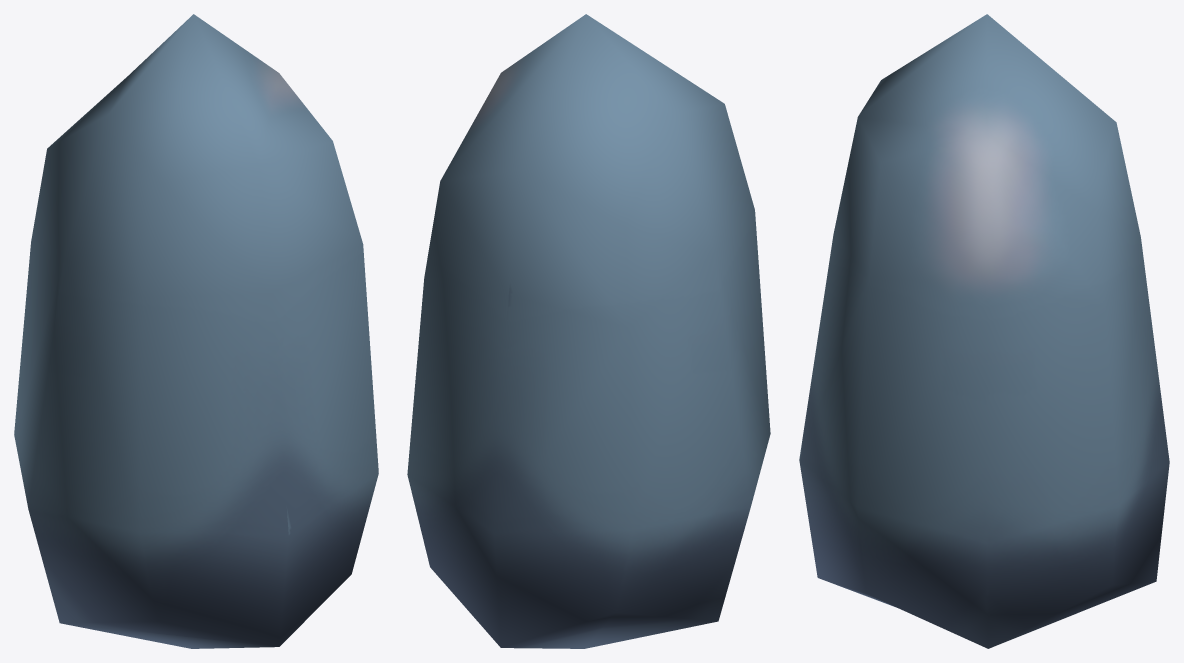
File: Dustmorph.fbx
3 views of the same model, side by side, from view 1: azimuth 30°, elevation 25°; view 2: azimuth 150°, elevation 25°; view 3: azimuth 270°, elevation 25° (orthographic).
Parts seen in each view (by area): view 1: drop3; view 2: drop3; view 3: drop3.
Boxes of the visible parts, box(x1,y1,x2,y2) form: drop3: box(14, 14, 378, 648); drop3: box(407, 14, 770, 648); drop3: box(799, 14, 1169, 648).
Size of the model in its own units: 20.85 by 38.37 by 20.47.
Materials: 1 (1 with a texture image).
